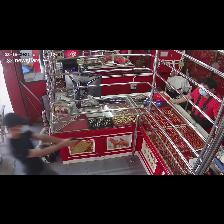person: (4, 113, 76, 174), (186, 88, 220, 119)
